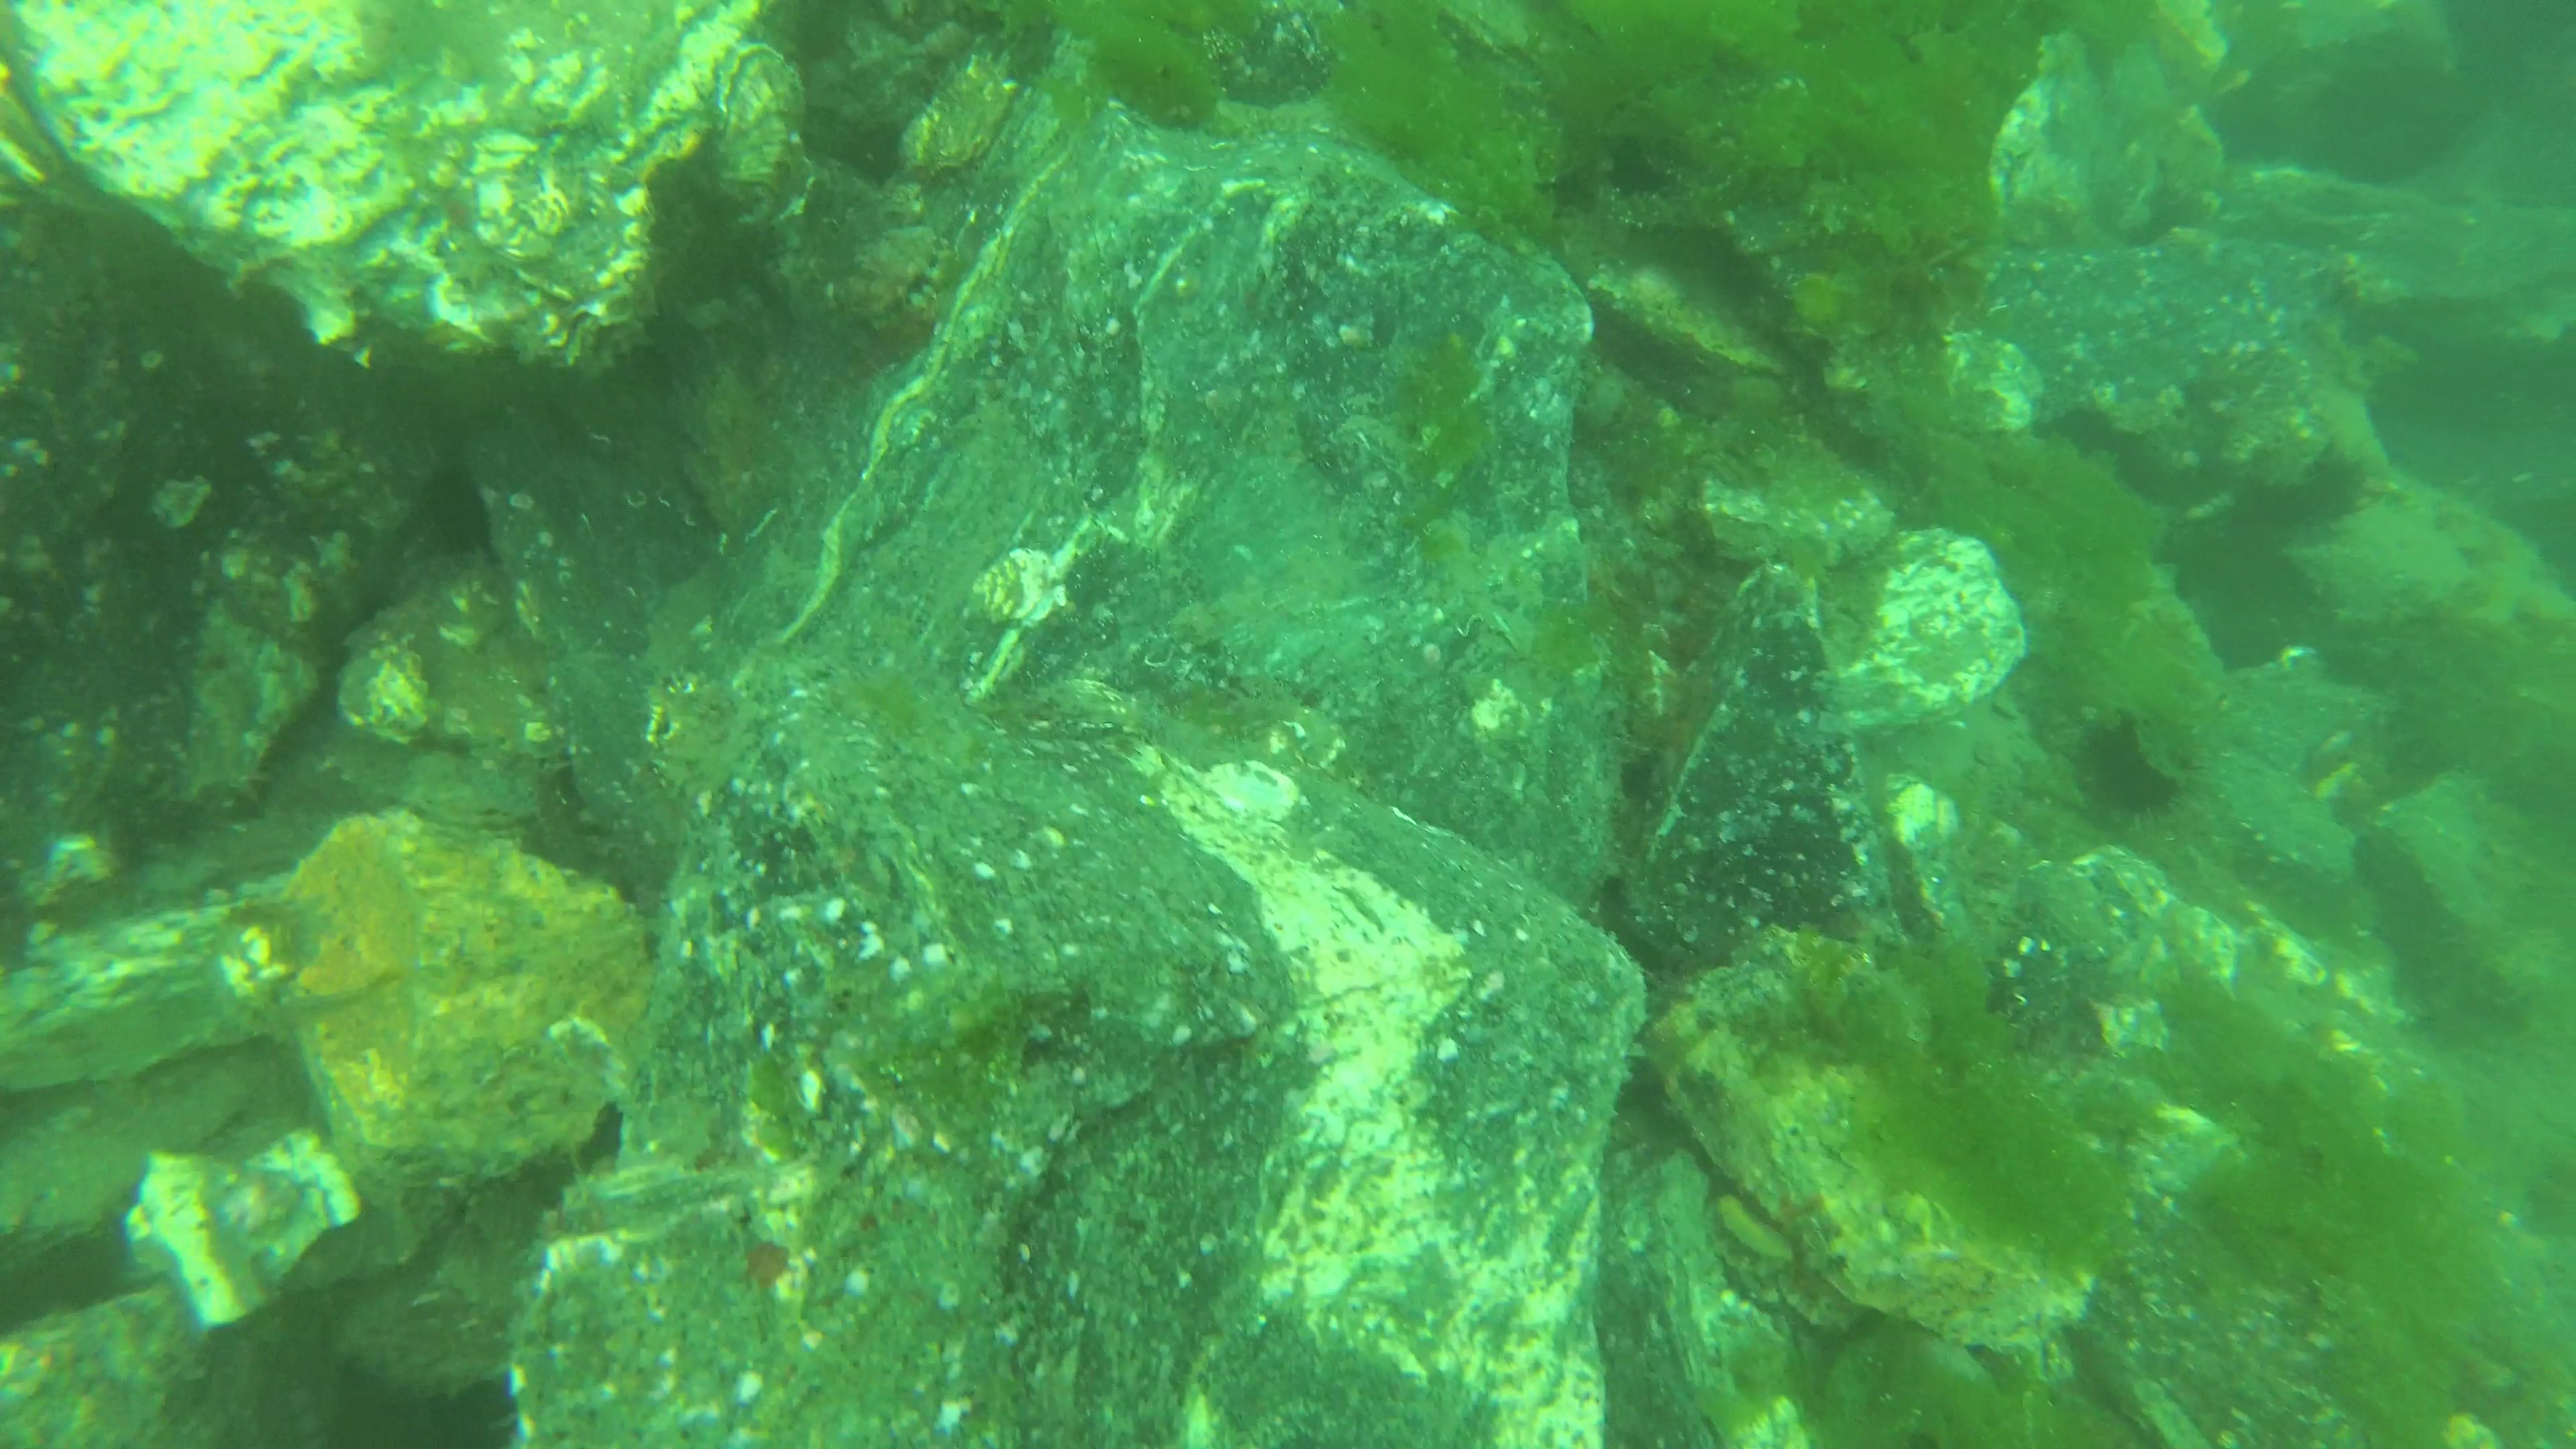echinus: (2084, 711, 2206, 823), (403, 471, 492, 563)
